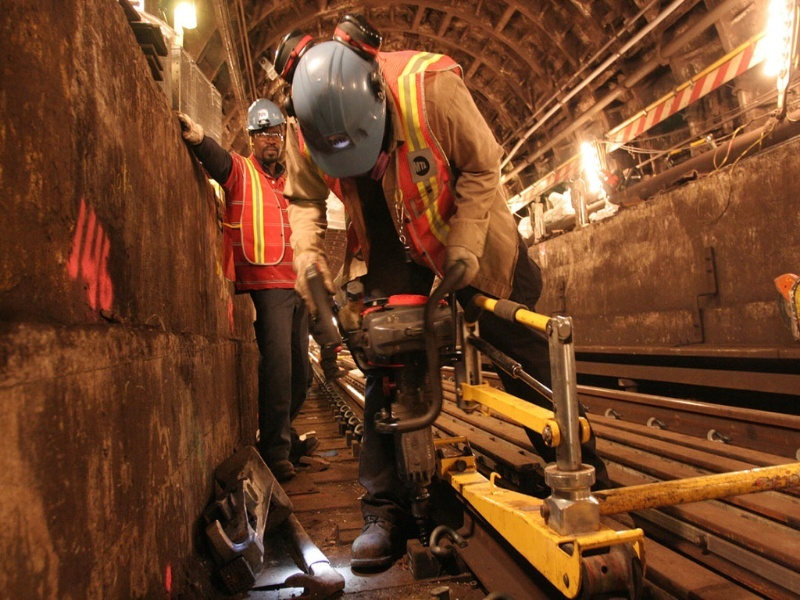Baret: (290, 40, 389, 178), (247, 96, 285, 132)
